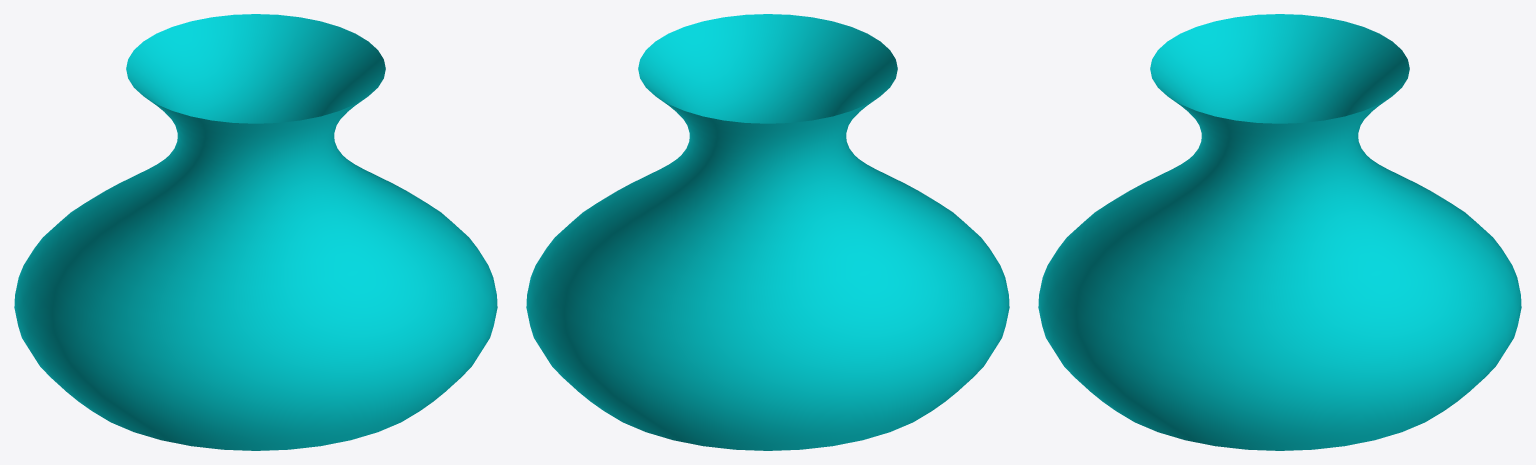
3 renders of one model, left to right at view 1: azimuth 30°, elevation 25°; view 2: azimuth 150°, elevation 25°; view 3: azimuth 270°, elevation 25°, orthographic.
Parts seen in each view (by area): view 1: Verified Scan; view 2: Verified Scan; view 3: Verified Scan.
Boxes of the visible parts, x1=… form: Verified Scan: x1=14, y1=14, x2=497, y2=450; Verified Scan: x1=526, y1=14, x2=1009, y2=450; Verified Scan: x1=1038, y1=14, x2=1521, y2=450.
Size of the model in its own units: 1.45 by 1 by 1.45.
